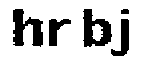b: (79, 8, 112, 48)
h: (6, 3, 43, 48)
j: (112, 7, 139, 57)
r: (47, 17, 74, 49)
